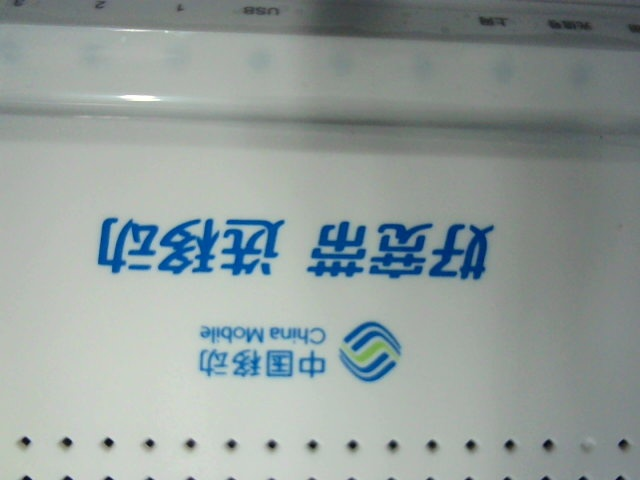AA_ChinaMoble: (90, 201, 502, 385)
